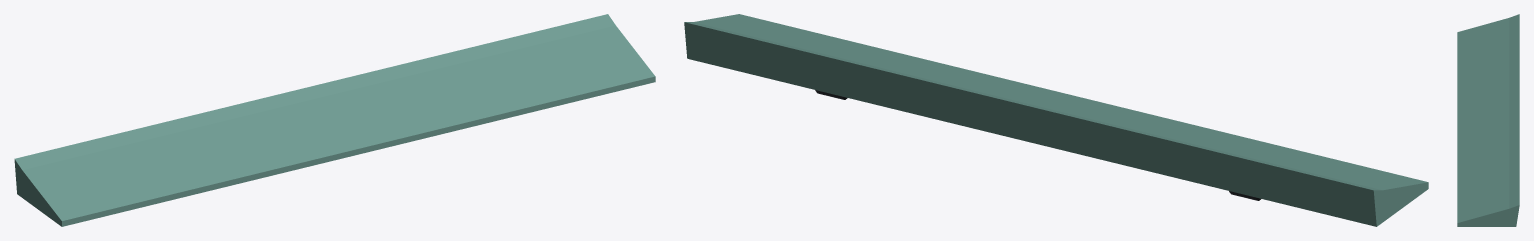
File: vortex_r.glb
3 renders of one model, left to right at view 1: azimuth 30°, elevation 25°; view 2: azimuth 150°, elevation 25°; view 3: azimuth 270°, elevation 25°, orthographic. The views are drawn at different scales.
Visible parts, largest first — view 1: wing_element; view 2: wing_element; view 3: wing_element.
Part boxes in pixels (x1=…): wing_element: x1=14, y1=14, x2=655, y2=226; wing_element: x1=684, y1=14, x2=1428, y2=226; wing_element: x1=1457, y1=14, x2=1519, y2=226.
Size of the model in its own units: 1.3 by 0.086 by 0.18.
2 materials, 1 textured.
